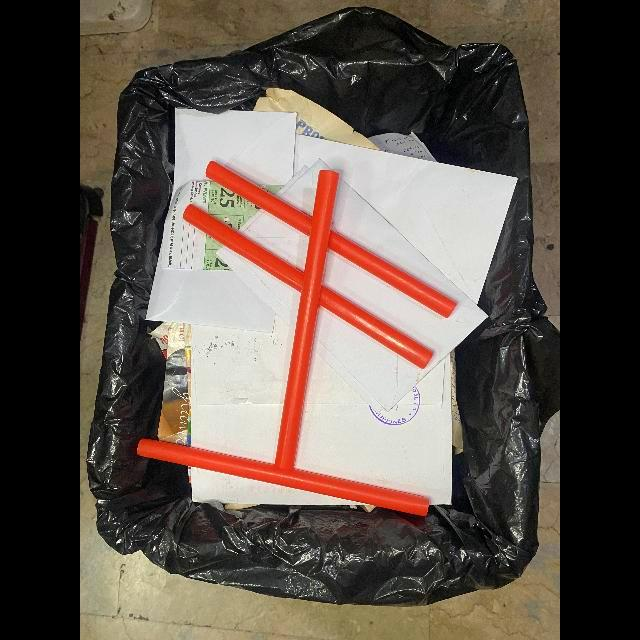paper: (231, 159, 489, 413), (191, 324, 452, 505), (294, 133, 518, 306), (146, 108, 297, 333)
